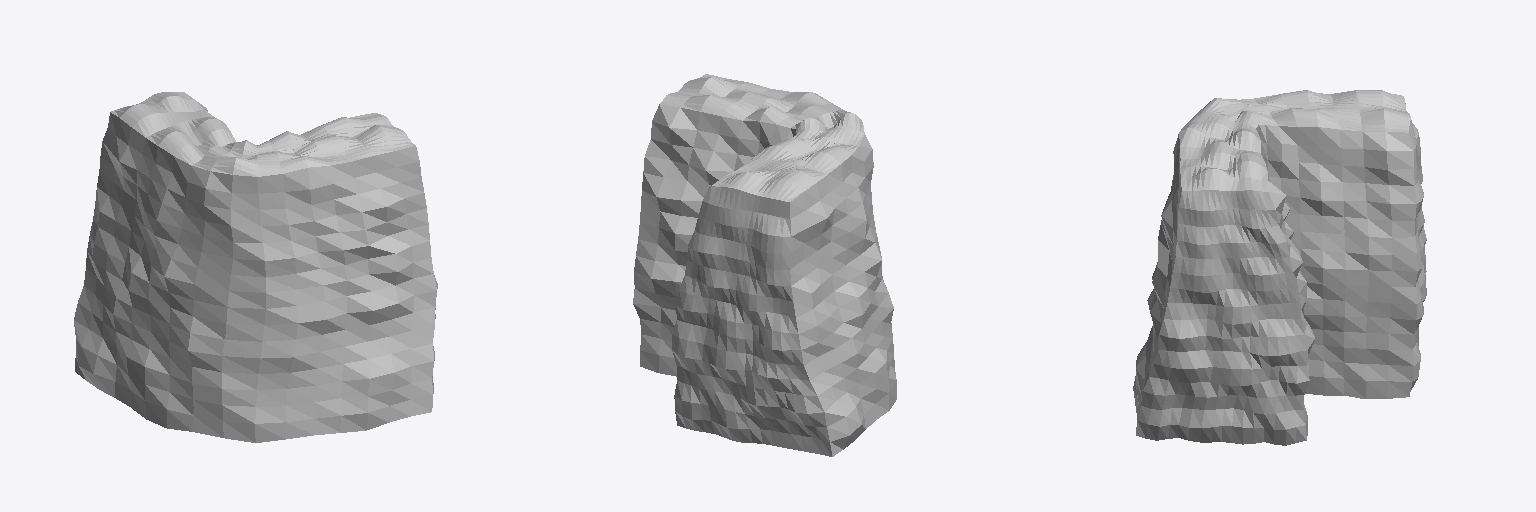
Rendered from stone_wall_curved.obj.
3 views of the same model, side by side, from view 1: azimuth 30°, elevation 25°; view 2: azimuth 150°, elevation 25°; view 3: azimuth 270°, elevation 25° (orthographic).
Visible parts, largest first — view 1: Cube.001_Cube.006; view 2: Cube.001_Cube.006; view 3: Cube.001_Cube.006.
Boxes of the visible parts, box(x1,y1,x2,y2) form: Cube.001_Cube.006: box(74, 92, 437, 442); Cube.001_Cube.006: box(633, 74, 896, 456); Cube.001_Cube.006: box(1133, 90, 1426, 445).
Size of the model in its own units: 3.29 by 3.22 by 3.23.